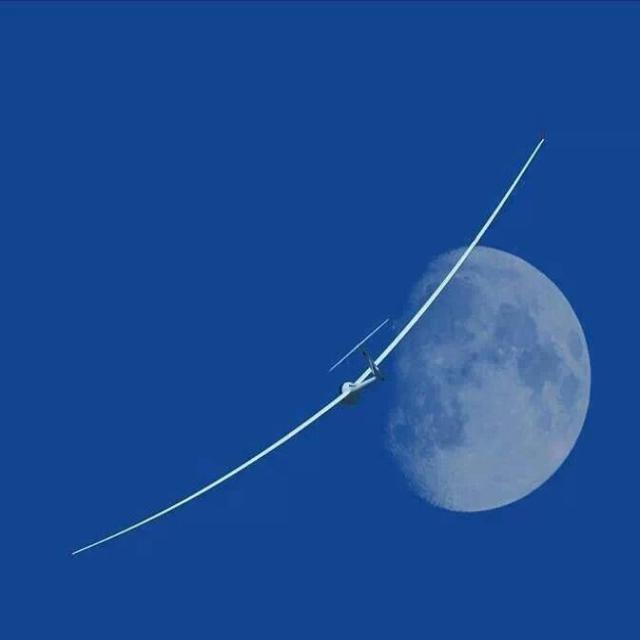iha: (71, 140, 544, 557)
